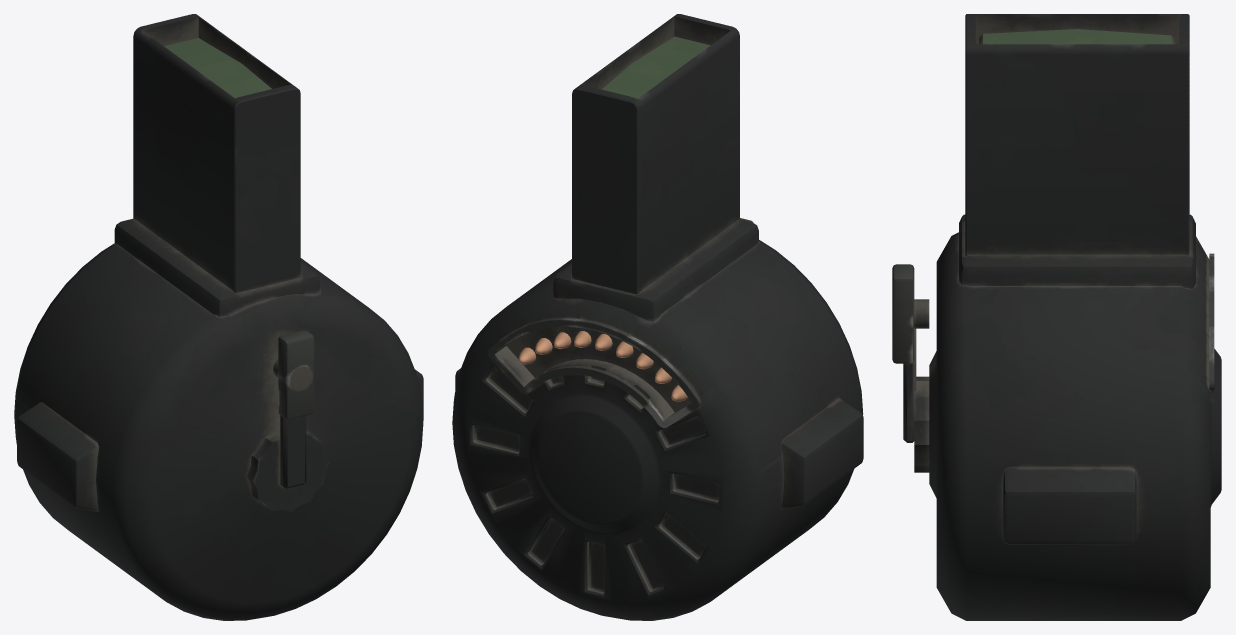
Rendered from tambor_556_60_tatico.glb.
The picture shows the model from 3 angles, left to right: view 1: azimuth 30°, elevation 25°; view 2: azimuth 150°, elevation 25°; view 3: azimuth 270°, elevation 25°; orthographic projection. The views are drawn at different scales.
Parts seen in each view (by area): view 1: tambor_556_60_tatico_carregador; view 2: tambor_556_60_tatico_carregador; view 3: tambor_556_60_tatico_carregador.
Part boxes in pixels (<box>): tambor_556_60_tatico_carregador: <box>14,14,423,620</box>; tambor_556_60_tatico_carregador: <box>452,14,863,620</box>; tambor_556_60_tatico_carregador: <box>892,14,1221,620</box>.
Bounding box in the file's own units: 0.12 × 0.171 × 0.089.
1 material, 1 textured.
